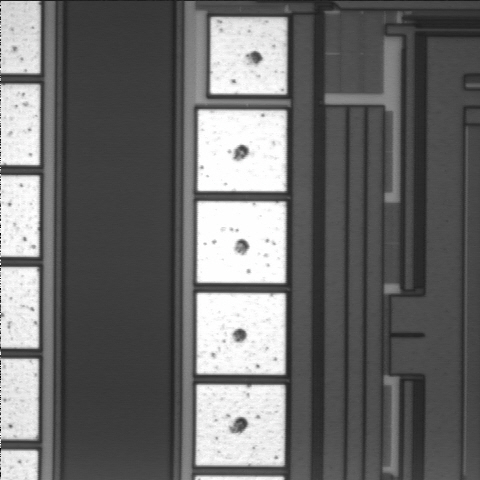pad: (197, 201, 286, 283), (197, 293, 286, 375), (197, 110, 287, 191), (196, 385, 285, 466), (210, 17, 287, 94)
